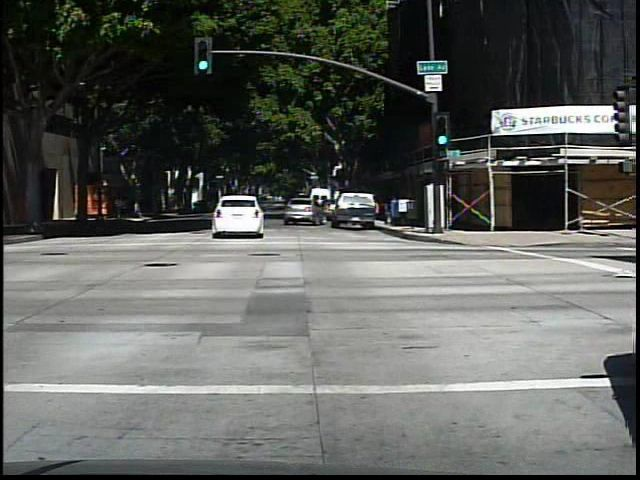person: (111, 193, 128, 222)
